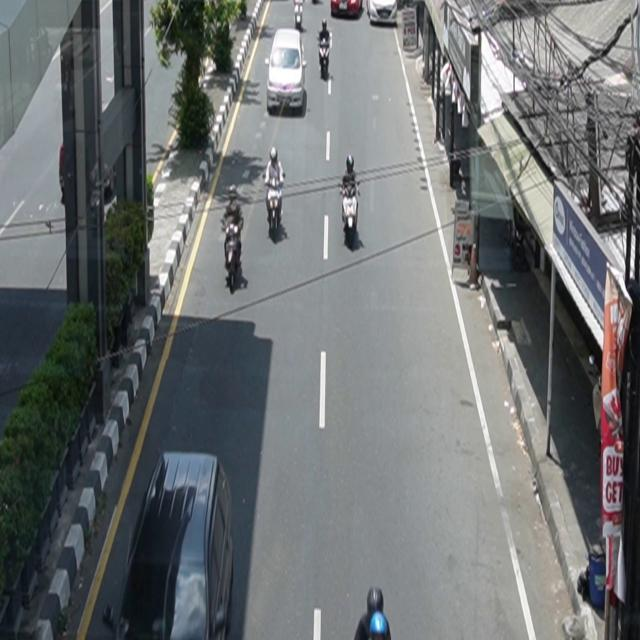car: (103, 452, 235, 640), (266, 29, 308, 115), (368, 1, 399, 26), (331, 1, 364, 18)
